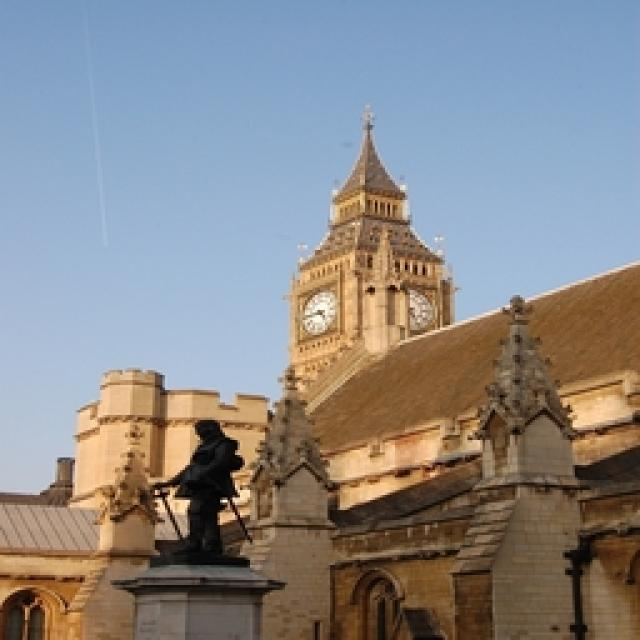Abbey: (226, 92, 526, 519)
